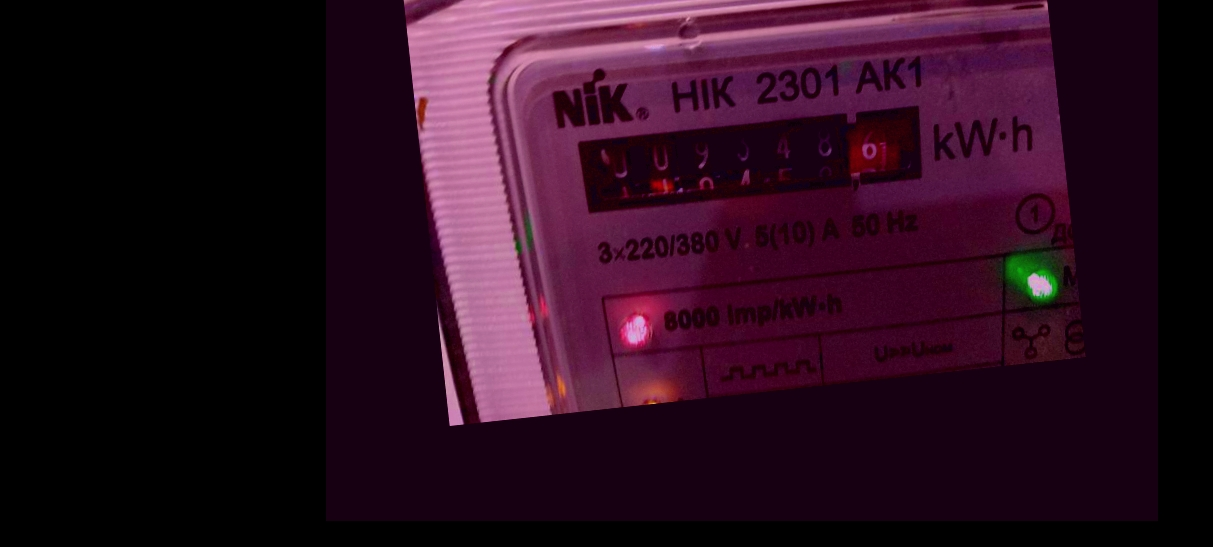0: (649, 137, 673, 175), (608, 143, 632, 180)
3: (730, 129, 755, 163)
4: (770, 125, 795, 164)
6: (857, 125, 883, 161)
8: (813, 122, 836, 158)
9: (691, 133, 713, 169)
screen: (554, 88, 948, 230)
